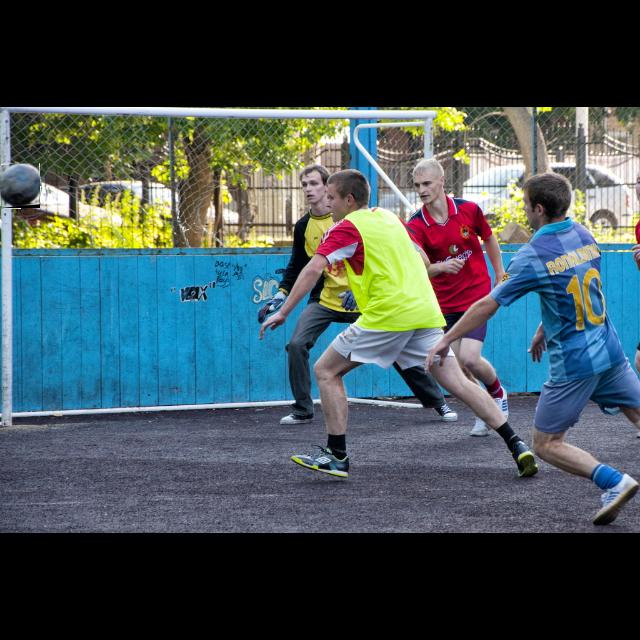Football: (0, 163, 40, 208)
